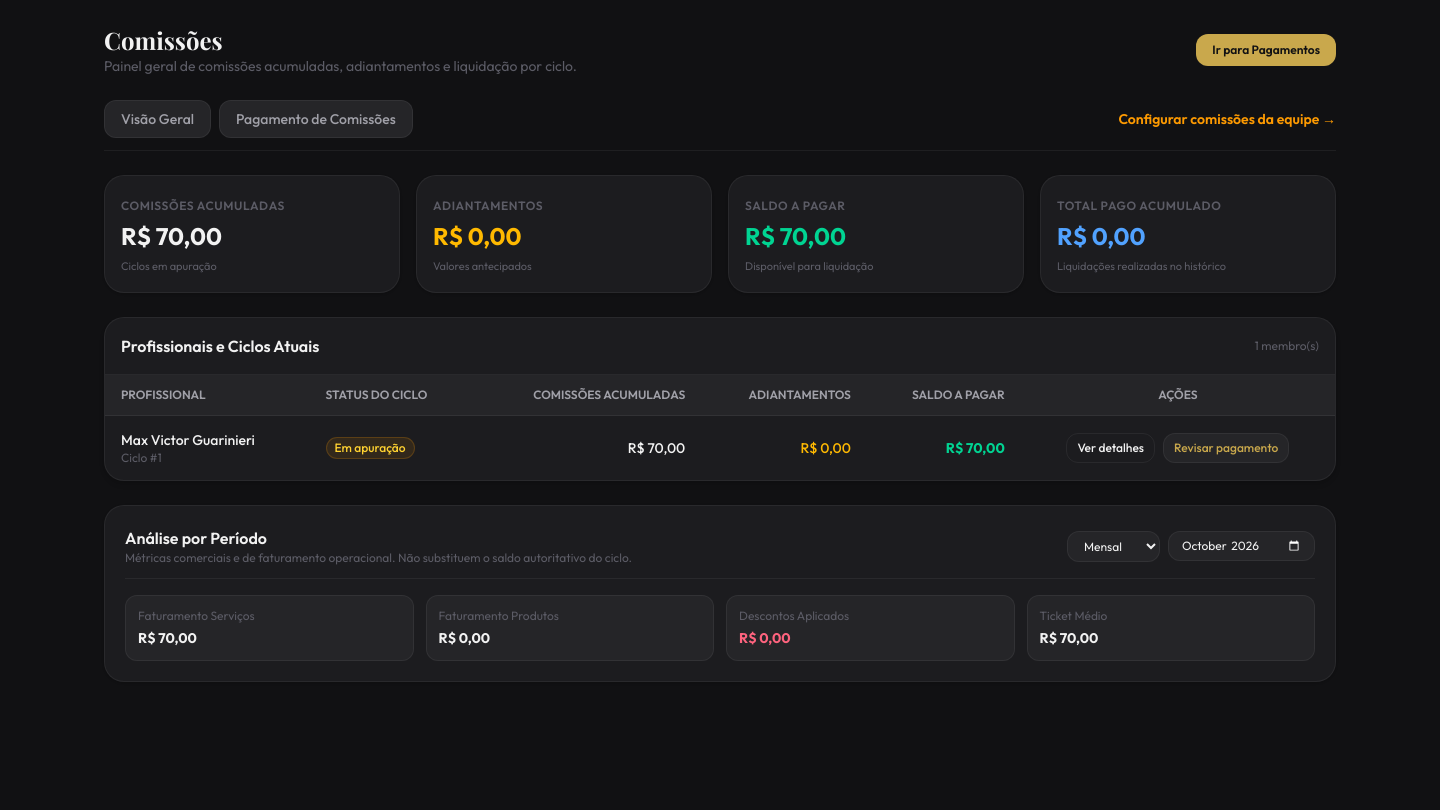
Test case: P1 Comissão — Auditoria por Comanda e Item › carrega a lista de comissões e ao clicar em Auditar envia o memberId correto para /api/admin/commissions/detail
Check: the text "Max Victor Guarinieri" is shown, box [121, 431, 255, 449]
Note: Clicar em Ver detalhes
Click the button "Ver detalhes" at [1111, 448], box [1066, 433, 1155, 463]
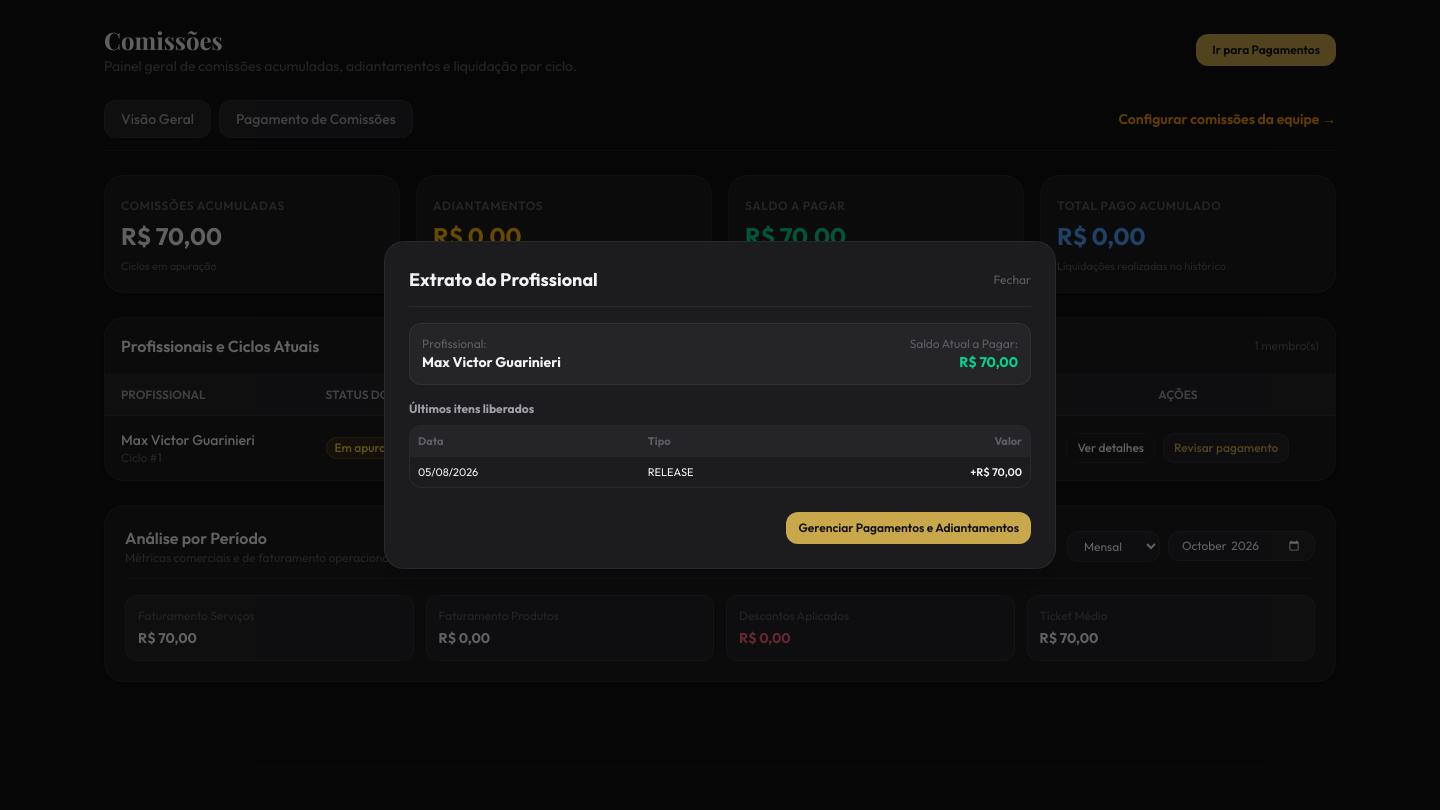
Check: the heading "Extrato do Profissional" is shown, box [409, 266, 598, 294]
Check: the text "RELEASE" is shown, box [640, 456, 826, 487]
